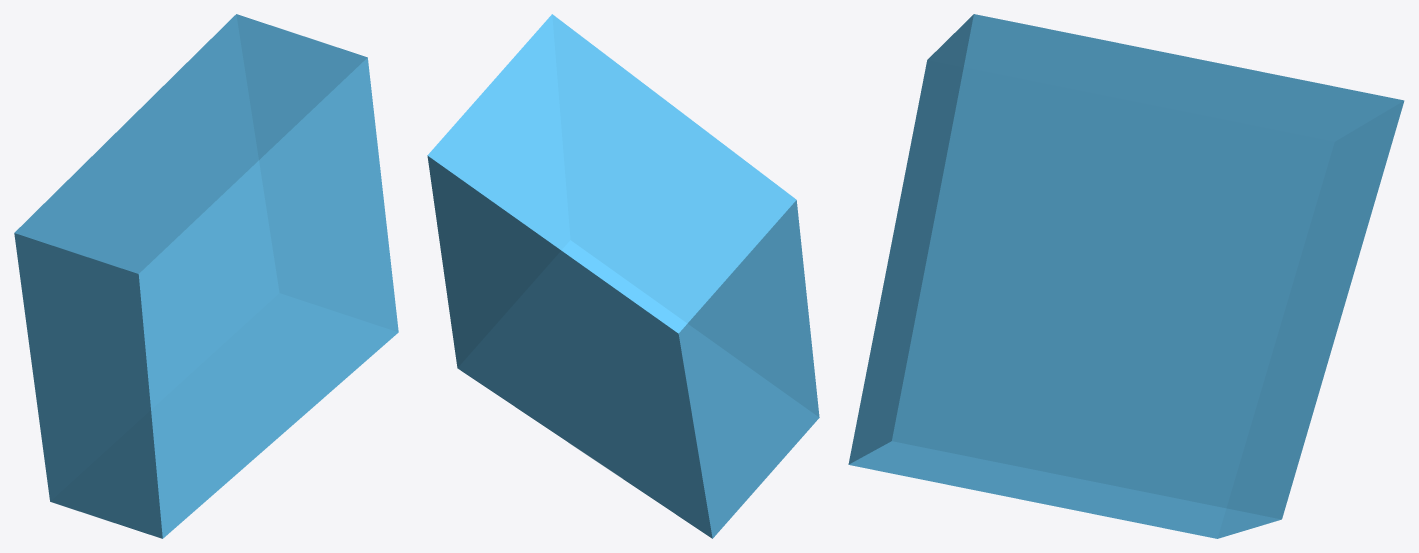
The model's file is Event_421278790_HErechit_43.fbx.
3 renders of one model, left to right at view 1: azimuth 30°, elevation 25°; view 2: azimuth 150°, elevation 25°; view 3: azimuth 270°, elevation 25°, orthographic. The views are drawn at different scales.
Parts seen in each view (by area): view 1: Model; view 2: Model; view 3: Model.
Boxes of the visible parts, bbox=[...] form: Model: bbox=[14, 14, 398, 538]; Model: bbox=[427, 14, 819, 538]; Model: bbox=[848, 14, 1404, 538].
Size of the model in its own units: 0.613 by 1.03 by 0.7235.
